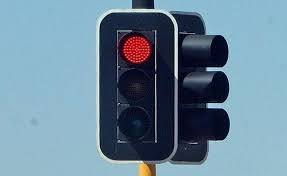red: (95, 8, 179, 164), (117, 31, 156, 142)
